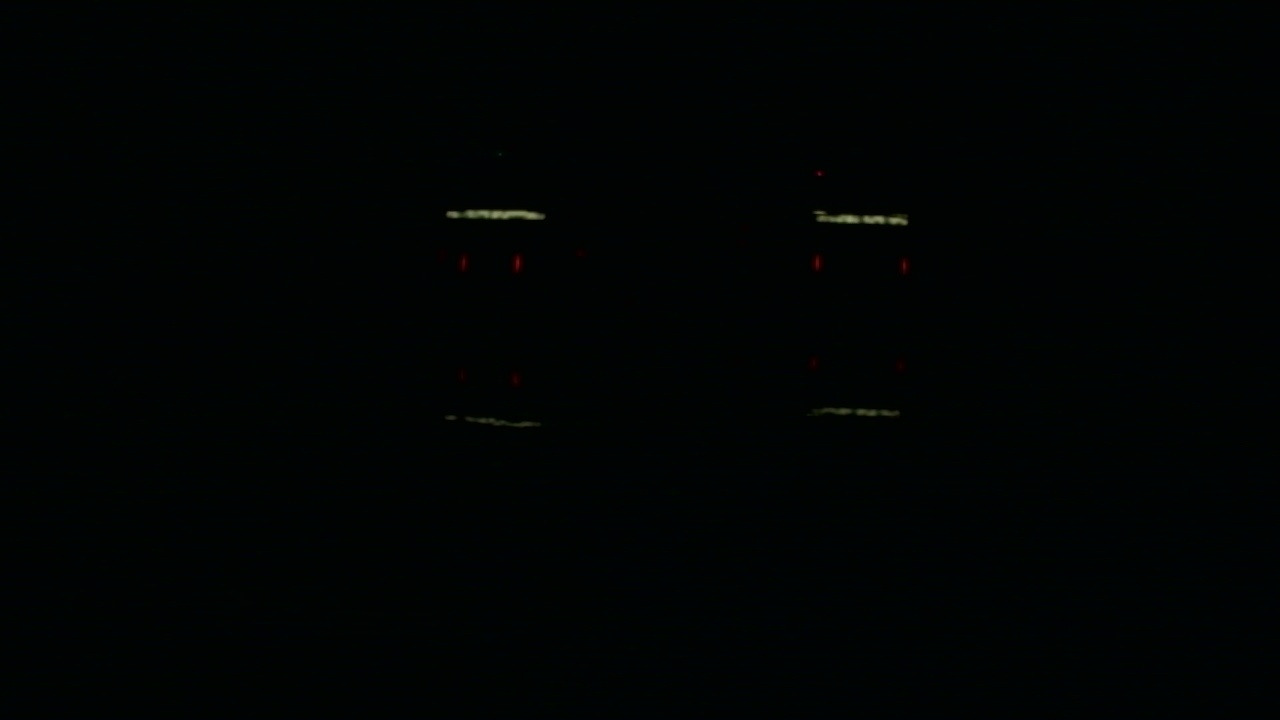lamp: (902, 251, 911, 278), (814, 251, 822, 275), (459, 255, 466, 268), (516, 255, 520, 269)
pair1: (462, 256, 519, 269)
pair2: (813, 251, 910, 277)
